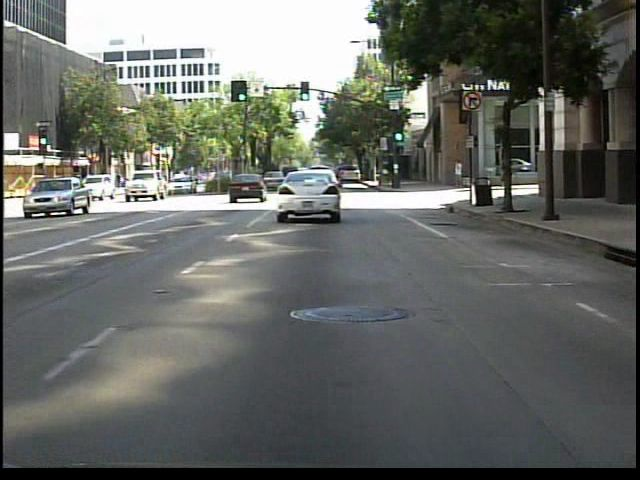person: (450, 155, 466, 195)
